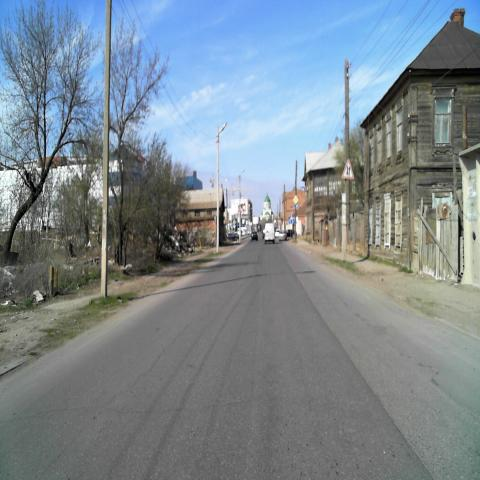1_21: (342, 158, 354, 179)
